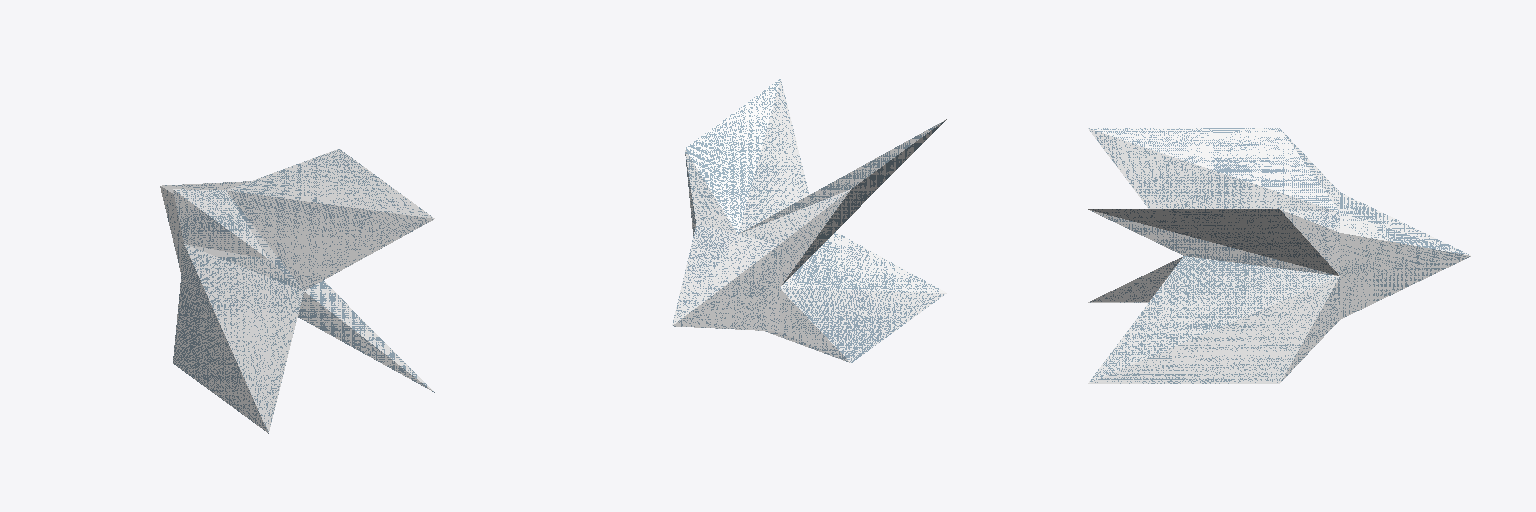
Rendered from ship_enemy.obj.
The picture shows the model from 3 angles: view 1: azimuth 30°, elevation 25°; view 2: azimuth 150°, elevation 25°; view 3: azimuth 270°, elevation 25°; orthographic projection.
Visible parts, largest first — view 1: Без_названия; view 2: Без_названия; view 3: Без_названия.
Boxes of the visible parts, box(x1,y1,x2,y2) form: Без_названия: box(160, 149, 434, 433); Без_названия: box(672, 78, 946, 362); Без_названия: box(1088, 128, 1470, 383).
Size of the model in its own units: 1 by 1 by 2.